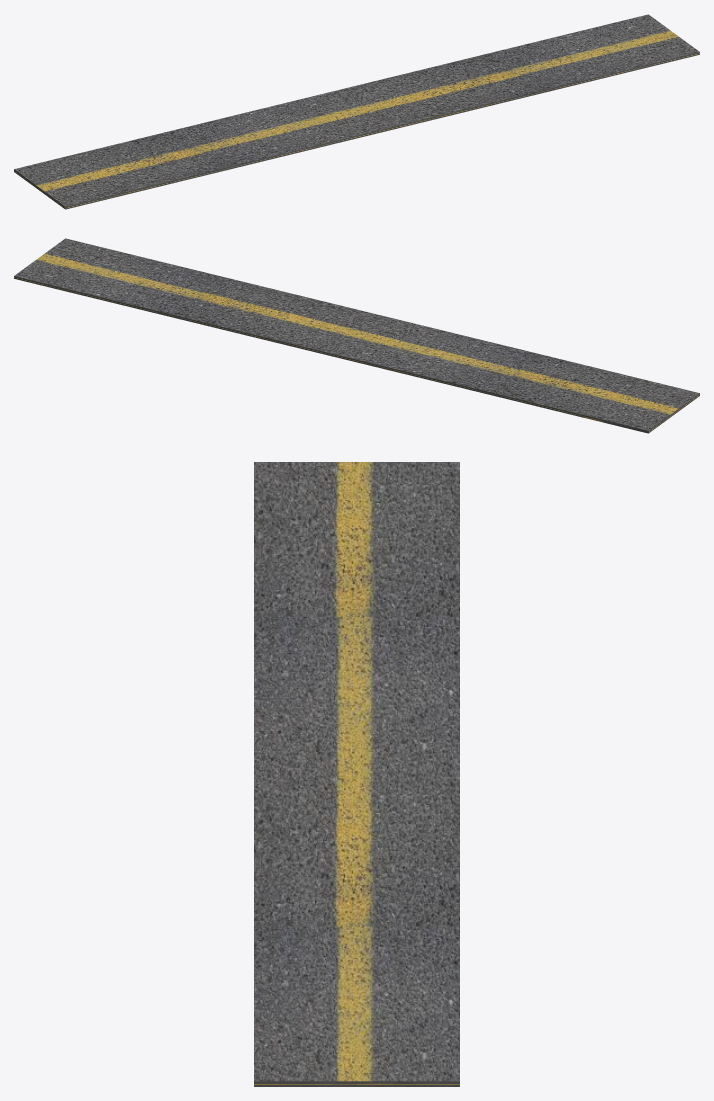
File: Calle.FBX
The picture shows the model from 3 angles, top to bottom: view 1: azimuth 30°, elevation 25°; view 2: azimuth 150°, elevation 25°; view 3: azimuth 270°, elevation 25°; orthographic projection. The views are drawn at different scales.
Visible parts, largest first — view 1: Box001; view 2: Box001; view 3: Box001.
Boxes of the visible parts, box(x1,y1,x2,y2) form: Box001: box(14, 14, 699, 209); Box001: box(14, 238, 699, 433); Box001: box(254, 462, 459, 1086).
Bounding box in the file's own units: 8628 × 35.65 × 1212.
